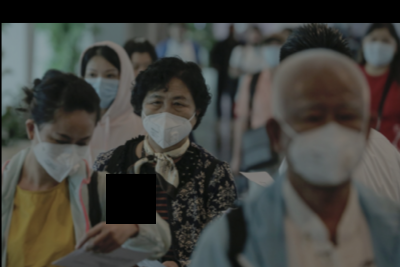with_mask: (281, 99, 367, 187), (32, 131, 94, 183), (141, 92, 196, 150), (84, 65, 120, 108), (361, 32, 395, 68)
